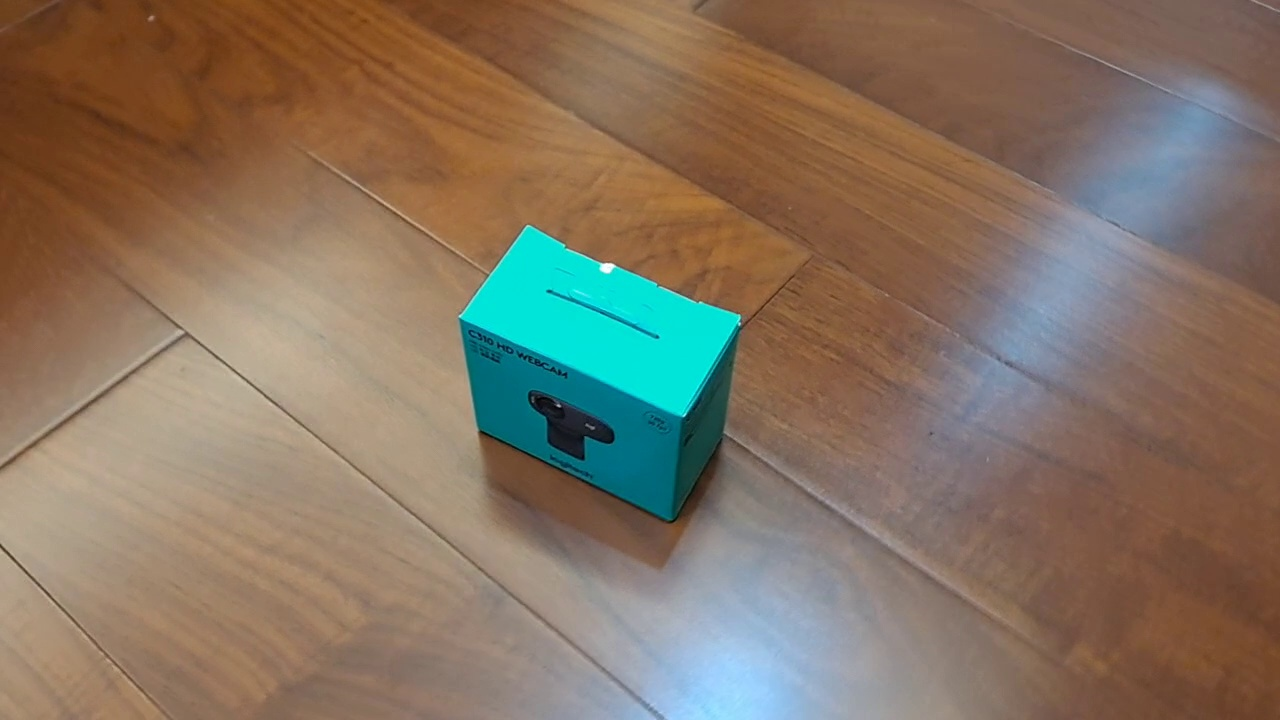webcam: (457, 223, 744, 525)
